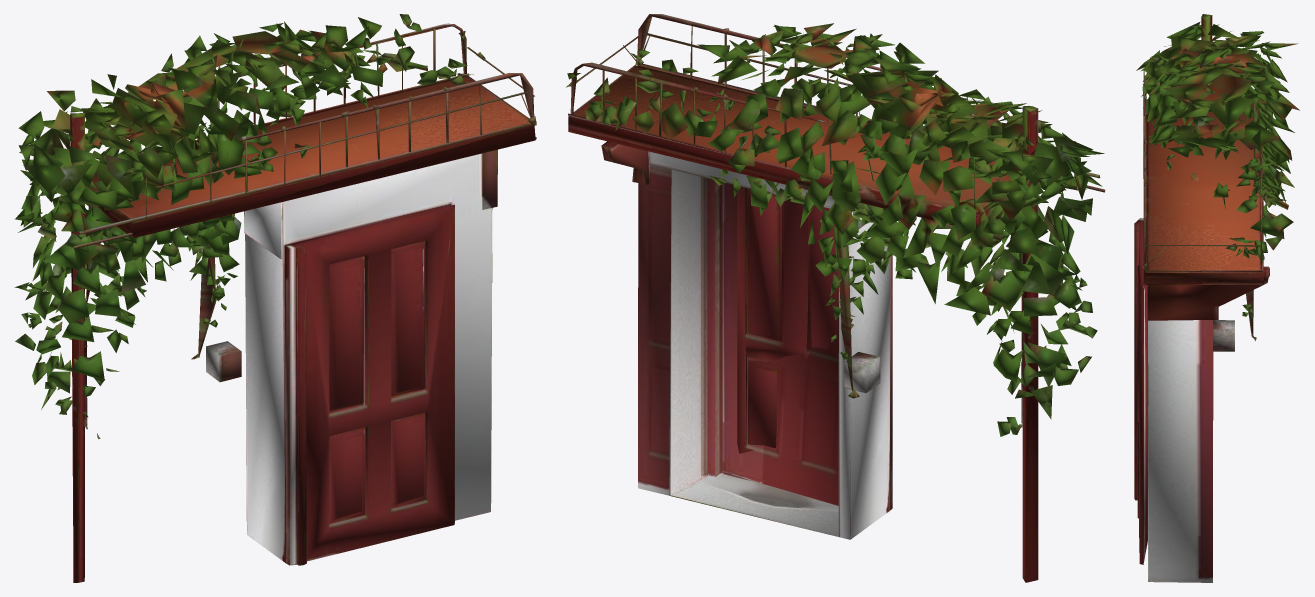
File: house_wall_grapevine.glb
3 renders of one model, left to right at view 1: azimuth 30°, elevation 25°; view 2: azimuth 150°, elevation 25°; view 3: azimuth 270°, elevation 25°, orthographic. The views are drawn at different scales.
Size of the model in its own units: 0.9082 by 0.8564 by 0.3037.
1 material, 1 textured.
